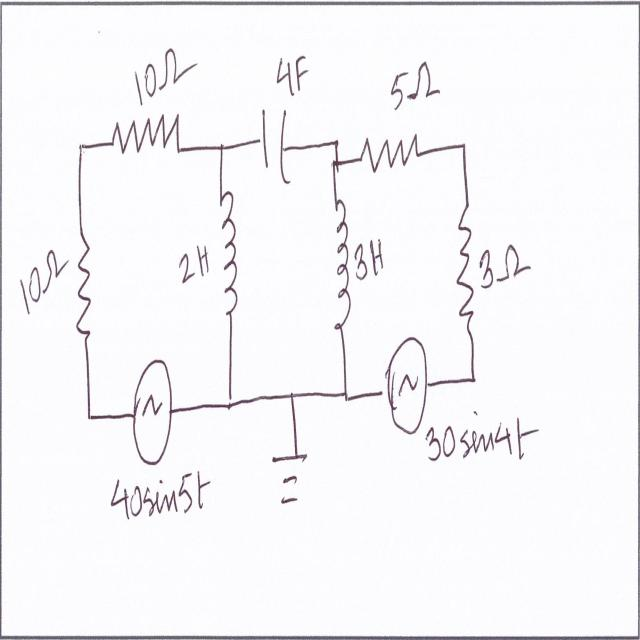capacitor: (255, 99, 294, 190)
current_source: (126, 347, 172, 467), (381, 331, 429, 437)
ground: (271, 445, 308, 517)
inductor: (216, 184, 244, 323), (333, 192, 353, 342)
resistor: (108, 102, 182, 167), (356, 118, 422, 181), (455, 200, 478, 330), (72, 236, 94, 348)
